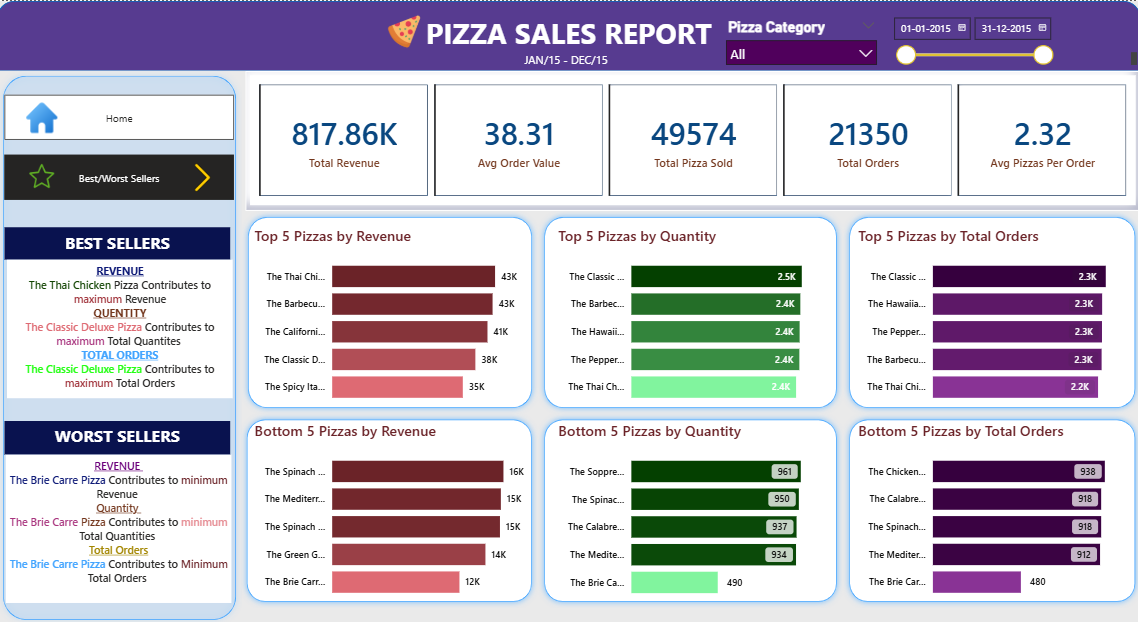

This screenshot's page, from the dashboard's own definition file:
{"tool":"powerbi","page":{"name":"Best/Worst Sellers","canvas":[1500,820],"ordinal":1},"visuals":[{"type":"cardVisual","fields":{"Data":["public pizza_sales.Total Revenue","public pizza_sales.Avg Order Value","public pizza_sales.Total Pizza Sold","public pizza_sales.Total Orders","public pizza_sales.Avg Pizzas Per Order"]},"box":[325.7,91.4,1174.3,182.9],"z":0},{"type":"shape","box":[0,0,1500,91.4],"z":1000},{"type":"textbox","box":[0,11.4,1500,80],"z":2000},{"type":"textbox","box":[0,62.9,1500,28.6],"z":3000},{"type":"image","box":[498.6,18.6,71.4,44.3],"z":4000},{"type":"shape","box":[321.6,274.8,388.2,266.3],"z":5000},{"type":"shape","box":[0,90.7,321.6,729.6],"z":6000},{"type":"textbox","box":[9.9,296.1,296.1,42.5],"z":7000},{"type":"textbox","box":[12.8,338.6,296.1,181.3],"z":8000},{"type":"textbox","box":[9.9,551.1,296.1,43.9],"z":9000},{"type":"textbox","box":[11.3,595,296.1,194.1],"z":10000},{"type":"slicer","fields":{"Values":["public pizza_sales.pizza_category"]},"box":[946.4,18.4,218.2,69.4],"z":11000},{"type":"slicer","fields":{"Values":["public pizza_sales.order_date"]},"box":[1164.6,11.3,229.5,86.4],"z":12000},{"type":"shape","box":[709.8,274.8,399.5,266.3],"z":13000},{"type":"shape","box":[1109.3,274.8,391,266.3],"z":14000},{"type":"shape","box":[709.8,541.2,399.5,255],"z":15000},{"type":"shape","box":[320.2,541.2,389.6,255],"z":16000},{"type":"shape","box":[1109.3,541.2,391,255],"z":17000},{"type":"barChart","title":"Top 5 Pizzas by Revenue","fields":{"Category":["public pizza_sales.pizza_name"],"Y":["public pizza_sales.Total Revenue"]},"box":[332.9,295.9,376.3,246],"z":18000},{"type":"barChart","title":"Bottom 5 Pizzas by Revenue","fields":{"Category":["public pizza_sales.pizza_name"],"Y":["public pizza_sales.Total Revenue"]},"box":[332.9,551.6,376.3,246],"z":19000},{"type":"barChart","title":"Top 5 Pizzas by Quantity","fields":{"Category":["public pizza_sales.pizza_name"],"Y":["public pizza_sales.Total Pizza Sold"]},"box":[731.7,295.9,353.8,246],"z":20000},{"type":"barChart","title":"Bottom 5 Pizzas by Quantity","fields":{"Category":["public pizza_sales.pizza_name"],"Y":["public pizza_sales.Total Pizza Sold"]},"box":[731,551.1,352.8,246.5],"z":21000},{"type":"barChart","title":"Top 5 Pizzas by Total Orders","fields":{"Category":["public pizza_sales.pizza_name"],"Y":["public pizza_sales.Total Orders"]},"box":[1124,295.9,360.2,246],"z":22000},{"type":"barChart","title":"Bottom 5 Pizzas by Total Orders","fields":{"Category":["public pizza_sales.pizza_name"],"Y":["public pizza_sales.Total Orders"]},"box":[1124,551.6,360.2,246],"z":23000},{"type":"pageNavigator","box":[9.9,201.2,301.8,59.5],"z":24000},{"type":"pageNavigator","box":[9.9,123.3,301.8,59.5],"z":25000},{"type":"image","box":[232.3,212.5,73.7,36.8],"z":26000},{"type":"image","box":[32.6,133.2,52.4,41.1],"z":27000},{"type":"image","box":[29.8,212.5,58.1,32.6],"z":28000}]}

Visuals, with their boxes in screenshot pixels (x1, y1, x2, y2), scaled from the page's 1500x820 canvas onto the 1138x622 screenshot:
cardVisual - public pizza_sales.Total Revenue x public pizza_sales.Avg Order Value: x1=247 y1=69 x2=1137 y2=208
shape: x1=0 y1=0 x2=1137 y2=69
textbox: x1=0 y1=9 x2=1137 y2=69
textbox: x1=0 y1=48 x2=1137 y2=69
image: x1=378 y1=14 x2=432 y2=48
shape: x1=244 y1=208 x2=539 y2=410
shape: x1=0 y1=69 x2=244 y2=621
textbox: x1=8 y1=225 x2=232 y2=257
textbox: x1=10 y1=257 x2=234 y2=394
textbox: x1=8 y1=418 x2=232 y2=451
textbox: x1=9 y1=451 x2=233 y2=599
slicer - public pizza_sales.pizza_category: x1=718 y1=14 x2=884 y2=67
slicer - public pizza_sales.order_date: x1=884 y1=9 x2=1058 y2=74
shape: x1=539 y1=208 x2=842 y2=410
shape: x1=842 y1=208 x2=1137 y2=410
shape: x1=539 y1=411 x2=842 y2=604
shape: x1=243 y1=411 x2=539 y2=604
shape: x1=842 y1=411 x2=1137 y2=604
"Top 5 Pizzas by Revenue" barChart: x1=253 y1=224 x2=538 y2=411
"Bottom 5 Pizzas by Revenue" barChart: x1=253 y1=418 x2=538 y2=605
"Top 5 Pizzas by Quantity" barChart: x1=555 y1=224 x2=824 y2=411
"Bottom 5 Pizzas by Quantity" barChart: x1=555 y1=418 x2=822 y2=605
"Top 5 Pizzas by Total Orders" barChart: x1=853 y1=224 x2=1126 y2=411
"Bottom 5 Pizzas by Total Orders" barChart: x1=853 y1=418 x2=1126 y2=605
pageNavigator: x1=8 y1=153 x2=236 y2=198
pageNavigator: x1=8 y1=94 x2=236 y2=139
image: x1=176 y1=161 x2=232 y2=189
image: x1=25 y1=101 x2=64 y2=132
image: x1=23 y1=161 x2=67 y2=186
